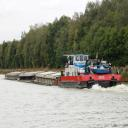tugboat: (59, 50, 123, 92)
